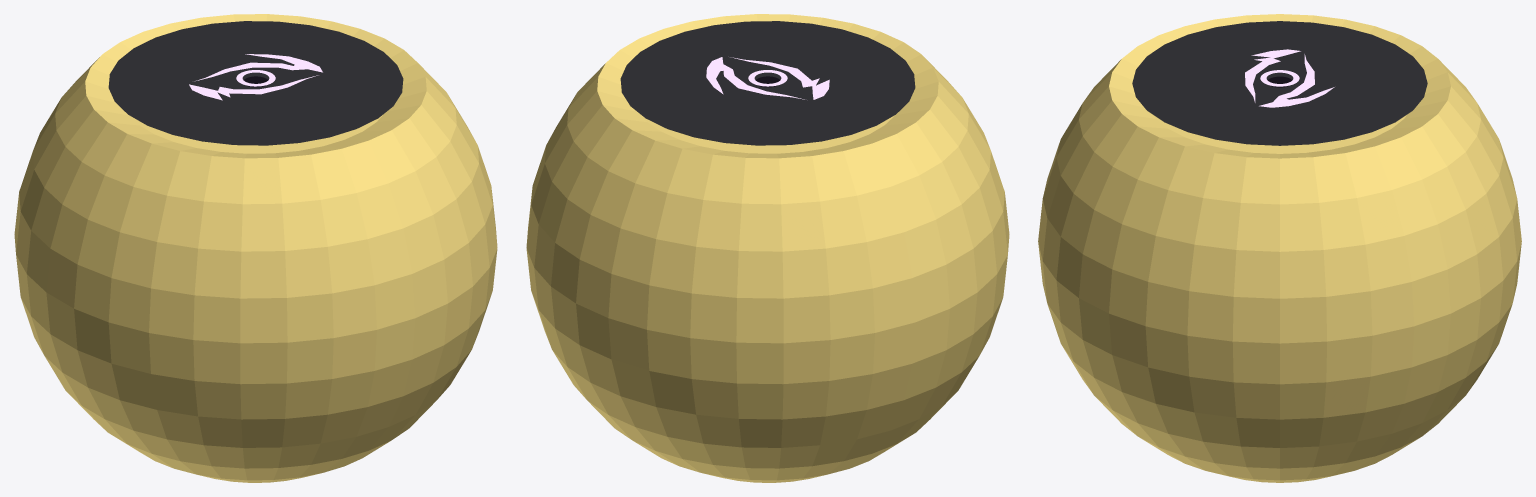
Rendered from d1_black_hole_gold.glb.
3 renders of one model, left to right at view 1: azimuth 30°, elevation 25°; view 2: azimuth 150°, elevation 25°; view 3: azimuth 270°, elevation 25°, orthographic.
Visible parts, largest first — view 1: D1_Die; view 2: D1_Die; view 3: D1_Die.
Part boxes in pixels (x1,y1,x2,y2): D1_Die: (14, 14, 497, 482); D1_Die: (526, 14, 1009, 482); D1_Die: (1038, 14, 1521, 482).
Size of the model in its own units: 4.8 by 4.18 by 4.8.
